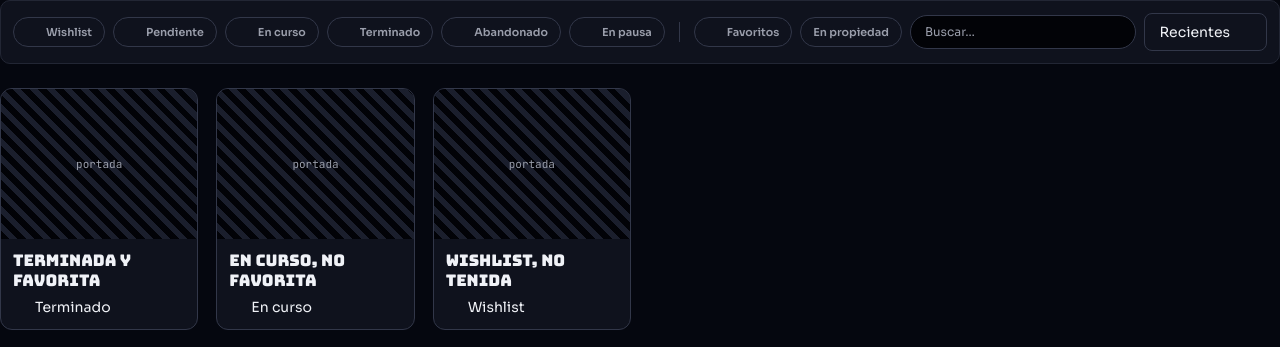
Test: CategoryWorksBrowser › filters by owned only when the owned chip is pressed
Click the button "En propiedad" at {"x": 851, "y": 32}, box [800,17,902,47]
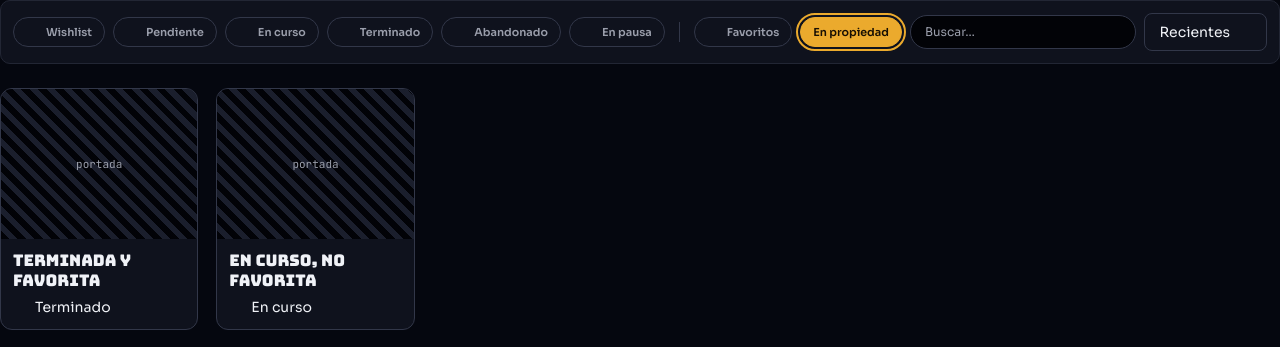
Expected: the text "Terminada y favorita" is shown, [13,250,131,291]
Expected: the link "Wishlist, no tenida" is gone
